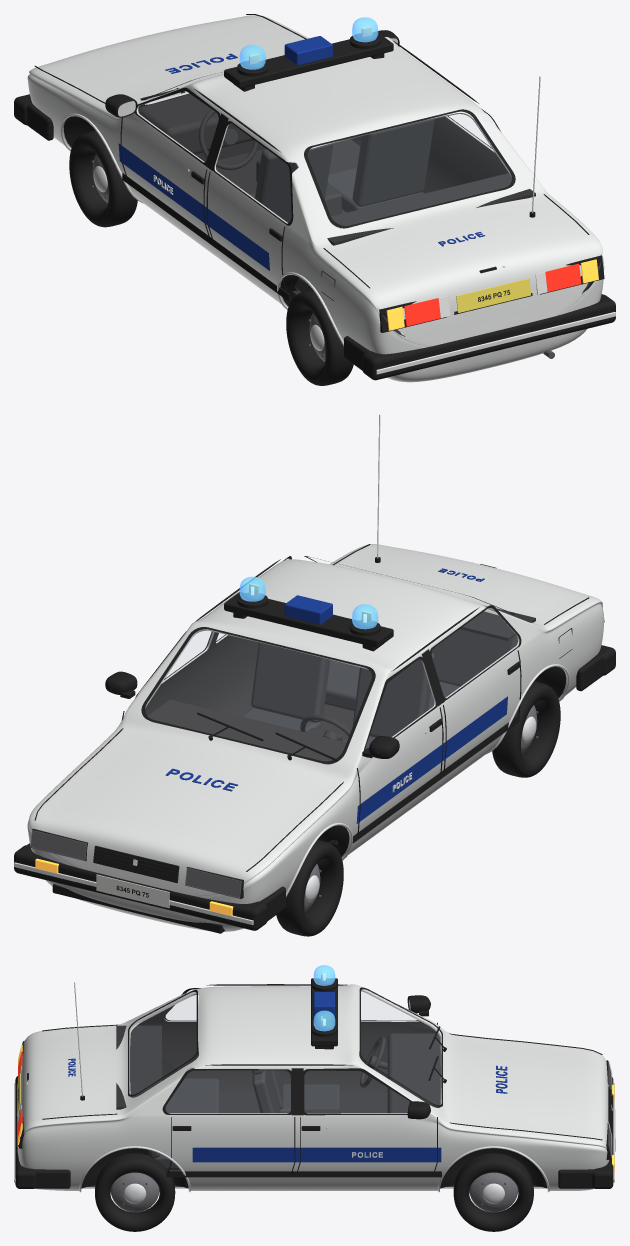
Rendered from police_car.glb.
3 views of the same model, one above another, from view 1: azimuth 30°, elevation 25°; view 2: azimuth 150°, elevation 25°; view 3: azimuth 270°, elevation 25° (orthographic). The views are drawn at different scales.
Visible parts, largest first — view 1: POL_Body, POL_Seat_R_Back, POL_RearBumper, POL_Tire_FL, POL_Tire_RL, POL_Shelf, POL_Dash, POL_Seat_L_Back, POL_Band_L, POL_BarBase, POL_Floor, POL_RearGlassSeal (+16 smaller); view 2: POL_Body, POL_Seat_R_Back, POL_Dash, POL_Tire_FL, POL_Tire_RL, POL_FrontBumper, POL_Seat_L_Back, POL_Bench_Back, POL_Band_L, POL_BarBase, POL_WindshieldSeal, POL_Bench_Cushion (+12 smaller); view 3: POL_Body, POL_Band_R, POL_Dash, POL_Tire_FR, POL_Tire_RR, POL_Shelf, POL_SillMolding_R, POL_Bench_Cushion, POL_Floor, POL_Seat_L_Cushion, POL_Rim_RR, POL_Rim_FR (+23 smaller).
Boxes of the visible parts, x1,y1,x2,y2 form: POL_Body: (27, 15, 604, 382); POL_Seat_R_Back: (352, 119, 434, 206); POL_RearBumper: (362, 294, 615, 380); POL_Tire_FL: (69, 130, 137, 227); POL_Tire_RL: (286, 289, 353, 385); POL_Shelf: (327, 173, 535, 245); POL_Dash: (138, 94, 253, 154); POL_Seat_L_Back: (255, 143, 333, 222); POL_Band_L: (118, 143, 269, 270); POL_BarBase: (224, 33, 393, 88); POL_Floor: (216, 139, 424, 295); POL_RearGlassSeal: (304, 109, 515, 227); POL_Body: (27, 544, 604, 931); POL_Seat_R_Back: (251, 642, 330, 722); POL_Dash: (147, 699, 367, 764); POL_Tire_FL: (276, 840, 343, 936); POL_Tire_RL: (492, 681, 560, 777); POL_FrontBumper: (14, 845, 267, 930); POL_Seat_L_Back: (352, 653, 434, 737); POL_Bench_Back: (431, 629, 517, 686); POL_Band_L: (356, 696, 507, 823); POL_BarBase: (224, 592, 393, 647); POL_WindshieldSeal: (141, 627, 375, 763); POL_Bench_Cushion: (324, 660, 460, 711); POL_Body: (17, 984, 611, 1190); POL_Band_R: (192, 1147, 441, 1162); POL_Dash: (387, 1033, 440, 1113); POL_Tire_FR: (453, 1153, 533, 1231); POL_Tire_RR: (95, 1153, 175, 1231); POL_Shelf: (116, 1025, 161, 1109); POL_SillMolding_R: (166, 1171, 441, 1177); POL_Bench_Cushion: (154, 1078, 219, 1169); POL_Floor: (169, 1092, 387, 1170); POL_Seat_L_Cushion: (280, 1084, 340, 1113); POL_Rim_RR: (110, 1172, 159, 1212); POL_Rim_FR: (469, 1172, 518, 1212).
Bounding box in the file's own units: 2.04 × 1.95 × 4.48.
